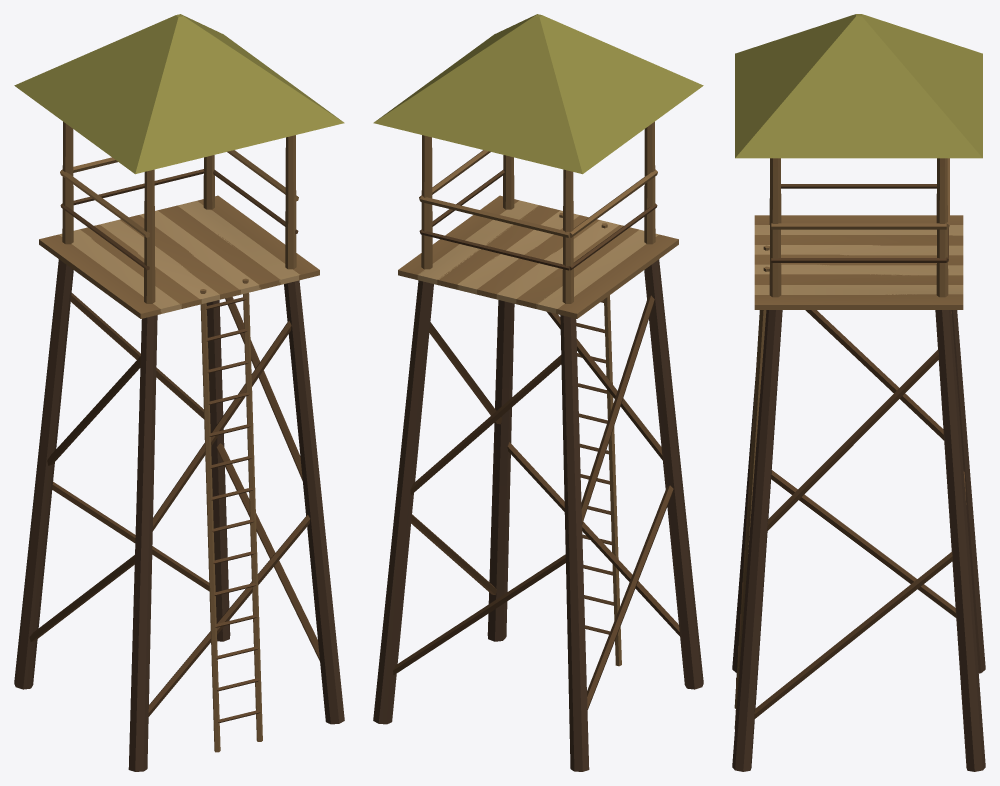
File: Watchtower.fbx
The picture shows the model from 3 angles, left to right: view 1: azimuth 30°, elevation 25°; view 2: azimuth 150°, elevation 25°; view 3: azimuth 270°, elevation 25°; orthographic projection. The views are drawn at different scales.
Parts seen in each view (by area): view 1: Watchtower; view 2: Watchtower; view 3: Watchtower.
Boxes of the visible parts, left/top/right/bottom form: Watchtower: left=14, top=14, right=344, bottom=771; Watchtower: left=373, top=14, right=703, bottom=771; Watchtower: left=732, top=14, right=985, bottom=771.
Bounding box in the file's own units: 3.04 × 9.31 × 3.04.
